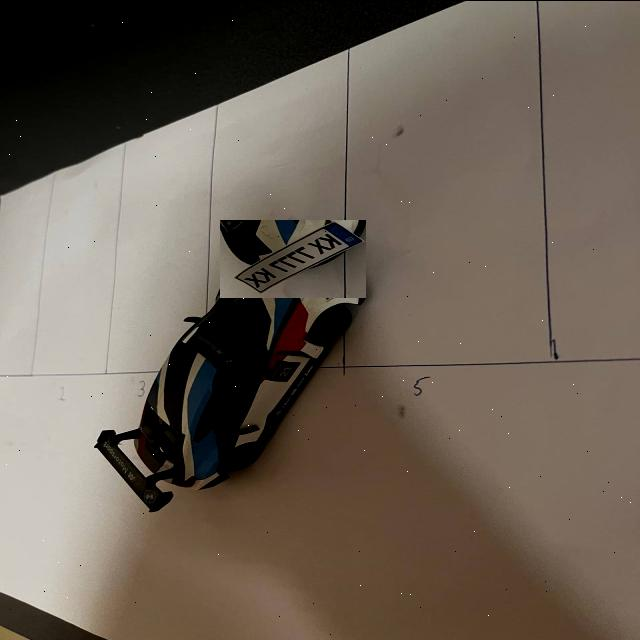KX 7777 KX: (220, 219, 366, 296)
